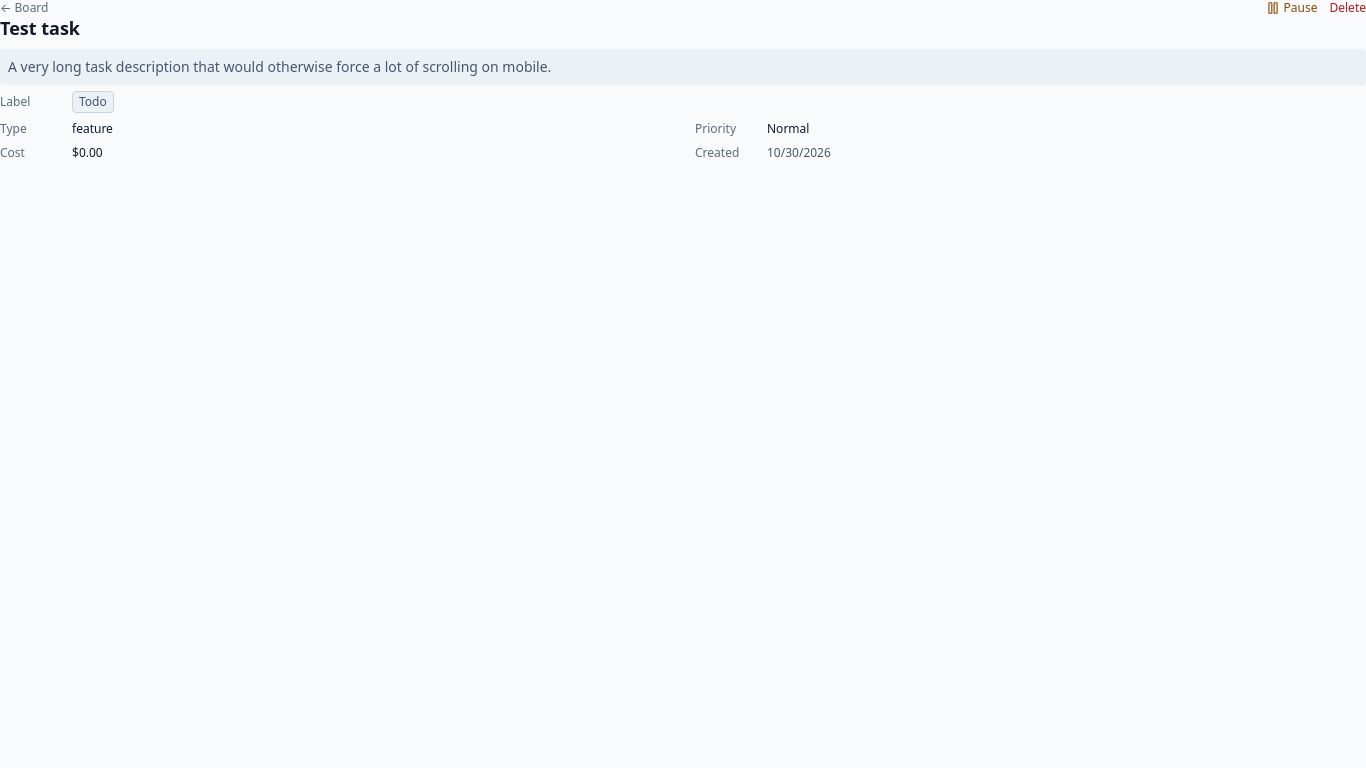
Test case: TaskHeader description (mobile modal) › renders a tappable preview that opens a modal with the full description on mobile, and closes it
The image size is (1366, 768).
Click the button titled "Click to expand".
click(683, 67)  # box [0,49,1365,85]
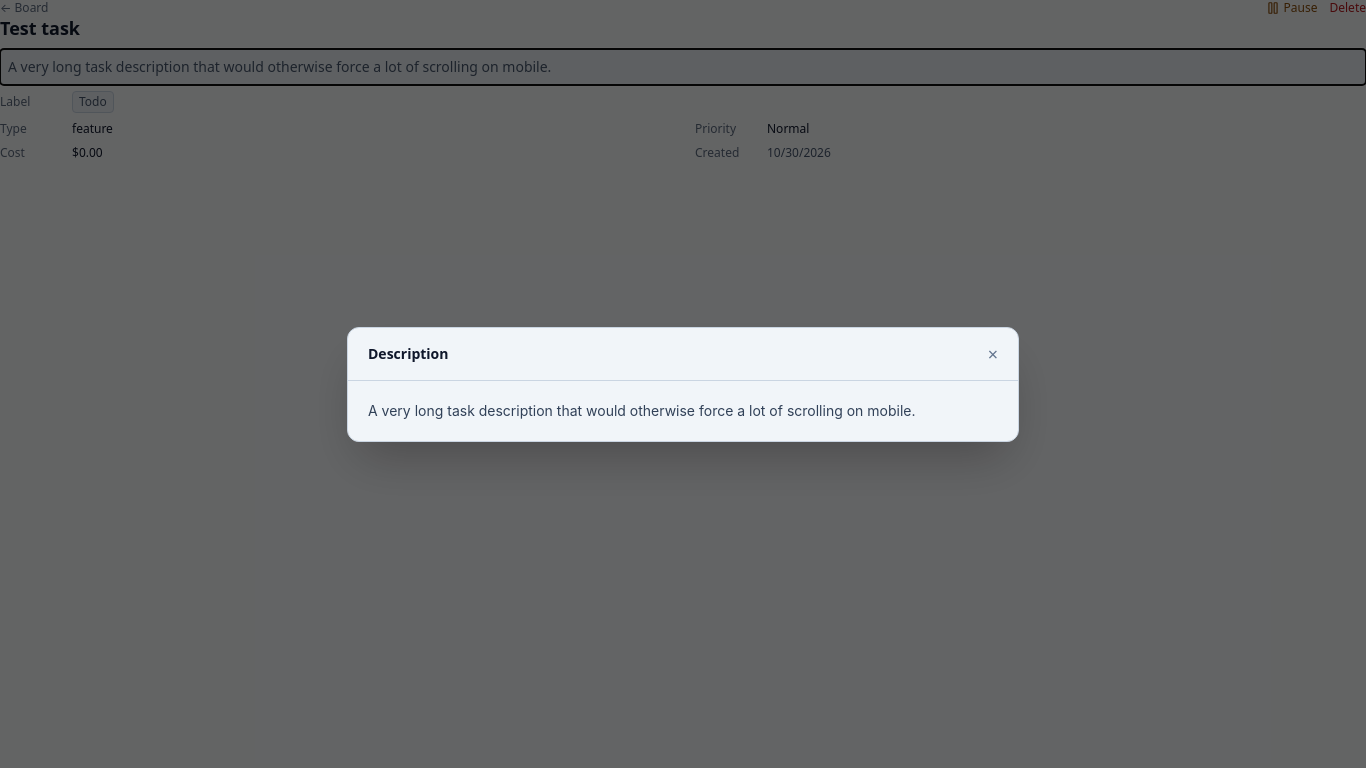
Check: the 1st text "A very long task description that would otherwise force a lot of scrolling on mobile." is shown, box [8,57,551,76]
Check: the dialog "Description" is shown
Click the button titled "Close".
click(993, 354)  # box [988,344,998,362]
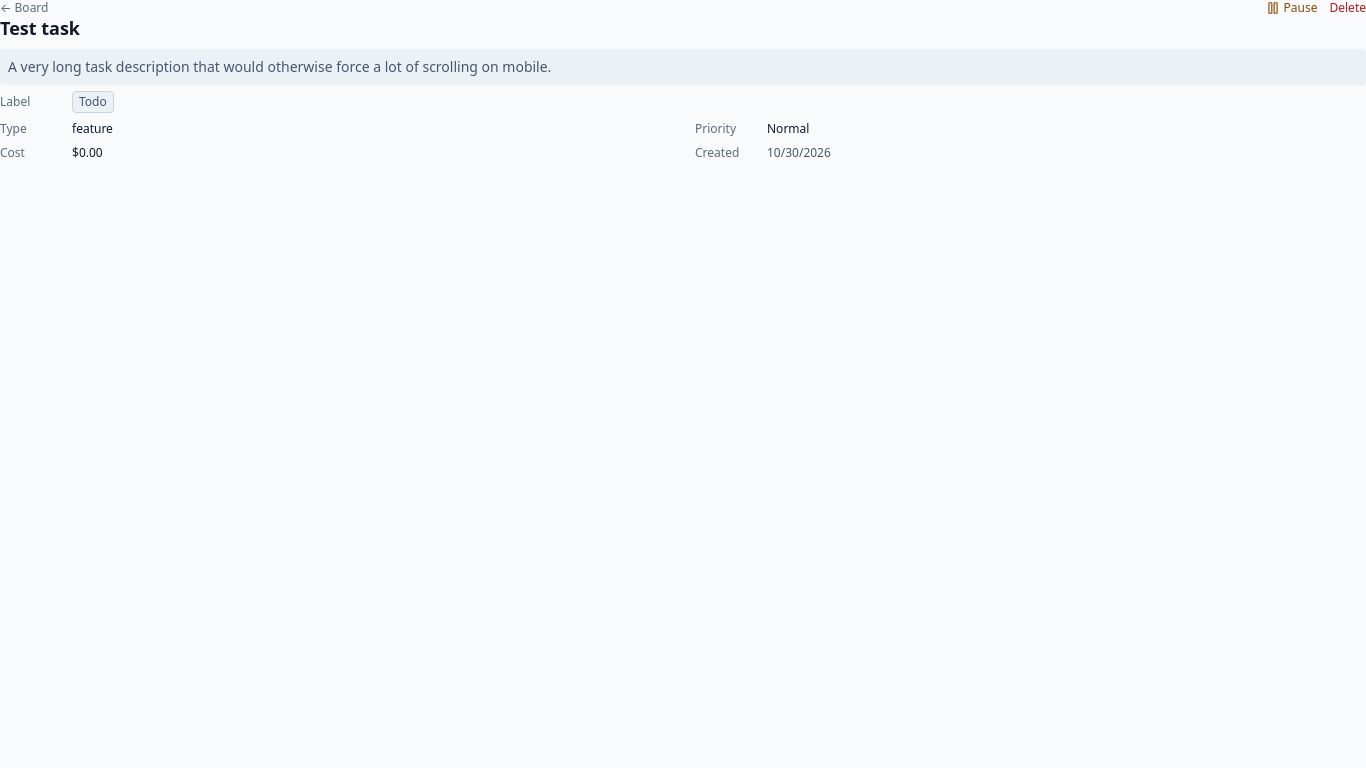
Check: the dialog is gone
